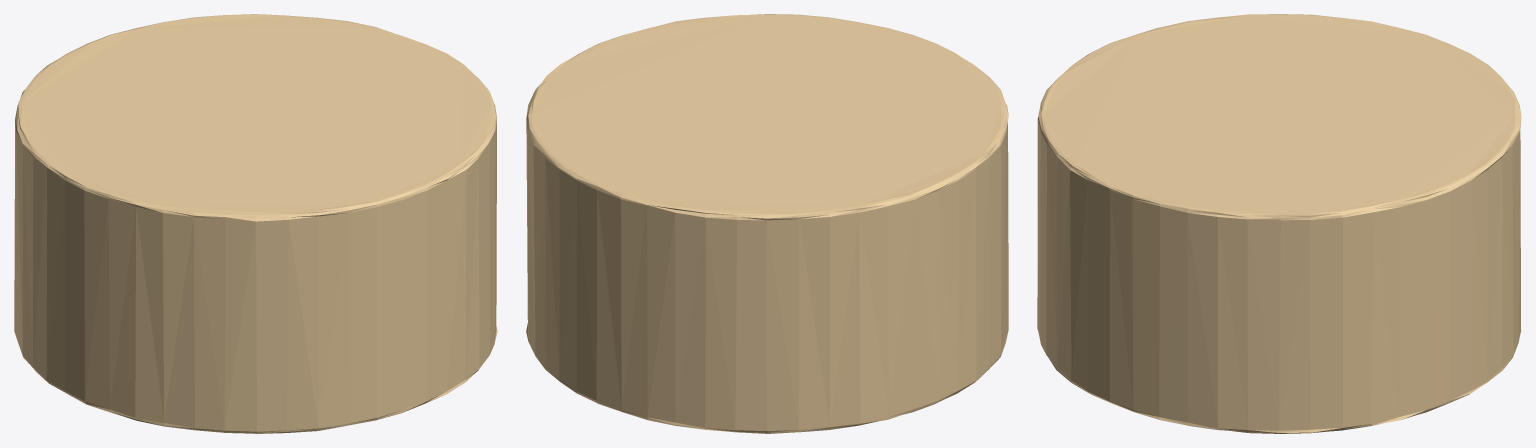
The model's file is tier_round.glb.
3 renders of one model, left to right at view 1: azimuth 30°, elevation 25°; view 2: azimuth 150°, elevation 25°; view 3: azimuth 270°, elevation 25°, orthographic.
Parts seen in each view (by area): view 1: tier_round.001; view 2: tier_round.001; view 3: tier_round.001.
Part boxes in pixels (x1=…): tier_round.001: x1=14, y1=14, x2=497, y2=433; tier_round.001: x1=526, y1=14, x2=1008, y2=433; tier_round.001: x1=1037, y1=14, x2=1521, y2=433.
Size of the model in its own units: 20.01 by 10.04 by 20.06.
